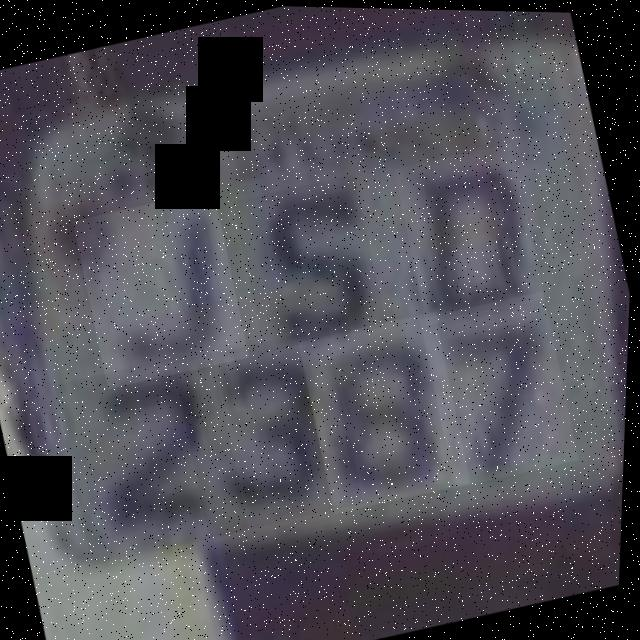2: (51, 346, 257, 567)
3: (170, 322, 375, 539)
7: (419, 286, 586, 487)
8: (296, 306, 480, 514)
D: (390, 138, 551, 325)
J: (69, 185, 256, 391)
S: (229, 170, 393, 353)
